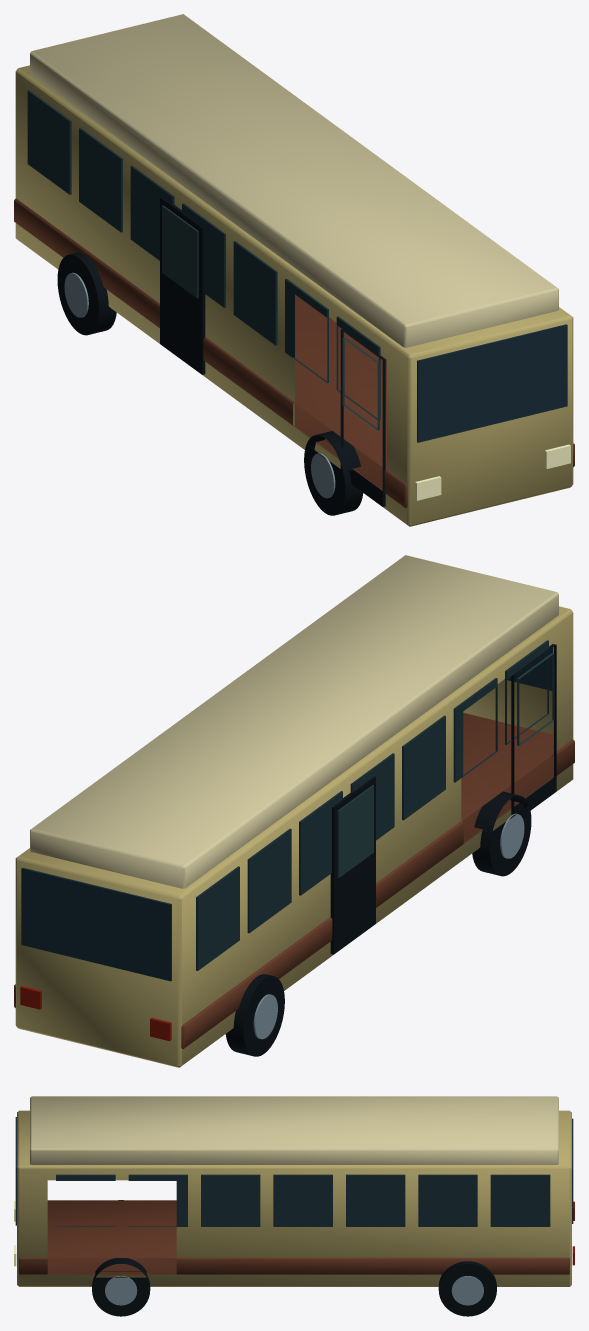
Rendered from bus-body.glb.
3 renders of one model, top to bottom at view 1: azimuth 30°, elevation 25°; view 2: azimuth 150°, elevation 25°; view 3: azimuth 270°, elevation 25°, orthographic. The views are drawn at different scales.
Bounding box in the file's own units: 2.5 × 2.89 × 9.06.
1 material, 1 textured.
